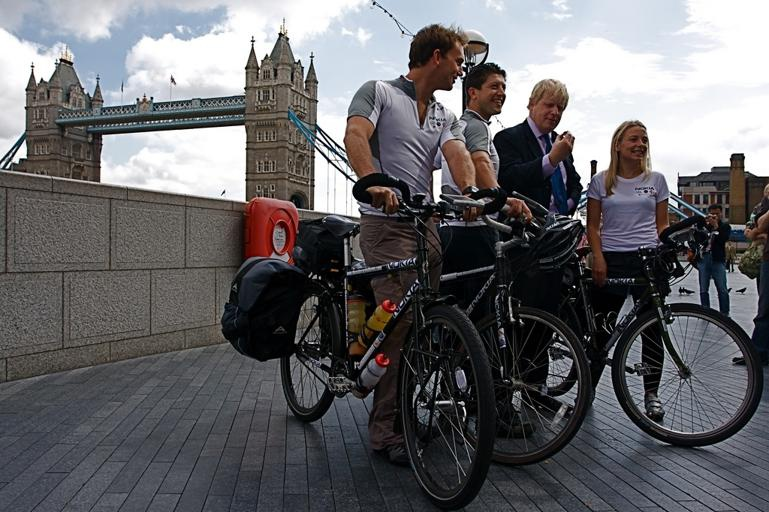non-vehicle: (274, 174, 512, 506), (513, 206, 765, 449), (384, 184, 594, 467)
